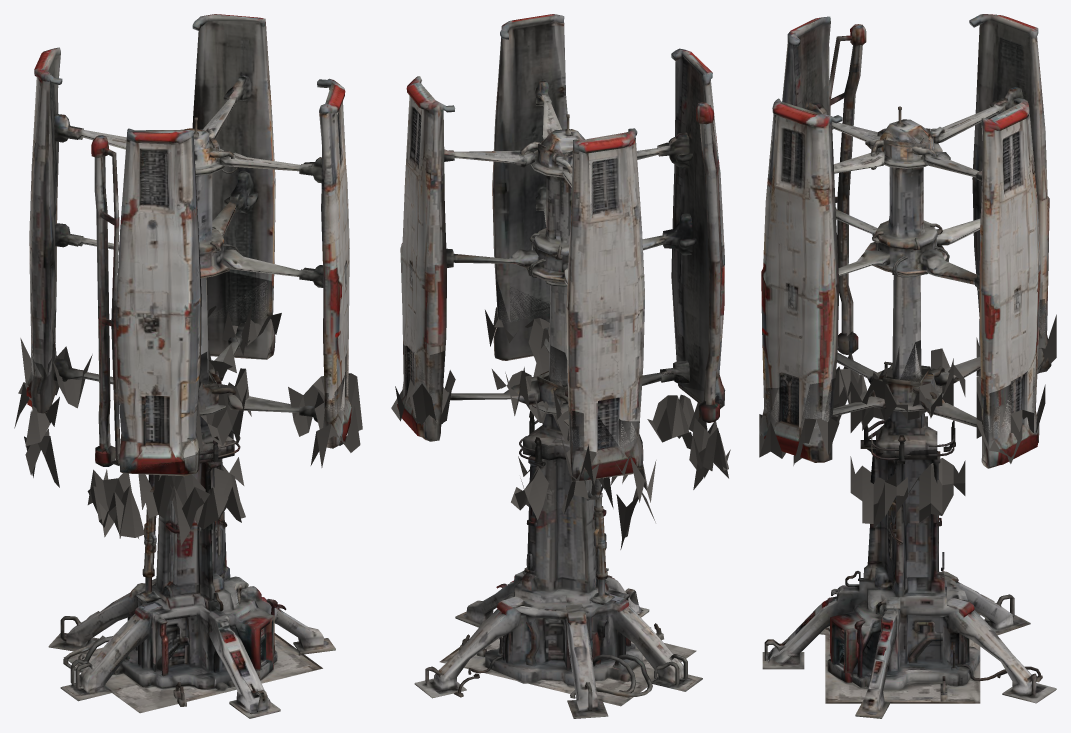
The model's file is thap_ang_ten.glb.
3 views of the same model, side by side, from view 1: azimuth 30°, elevation 25°; view 2: azimuth 150°, elevation 25°; view 3: azimuth 270°, elevation 25° (orthographic). The views are drawn at different scales.
Visible parts, largest first — view 1: nguyen, do_1, do_2; view 2: nguyen, do_1, do_2; view 3: nguyen, do_1, do_2.
Part boxes in pixels (bbox=[...]): nguyen: bbox=[29, 14, 349, 472]; do_1: bbox=[24, 412, 335, 718]; do_2: bbox=[14, 271, 362, 545]; nguyen: bbox=[400, 14, 725, 452]; do_1: bbox=[414, 408, 728, 718]; do_2: bbox=[391, 280, 730, 502]; nguyen: bbox=[761, 14, 1049, 433]; do_1: bbox=[762, 348, 1056, 718]; do_2: bbox=[759, 299, 1056, 468].
Bounding box in the file's own units: 20.03 × 45 × 20.33.
2 materials, 1 textured.
